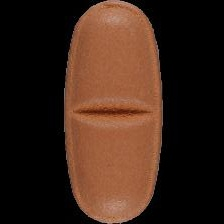49349-261: (0, 0, 224, 224)
